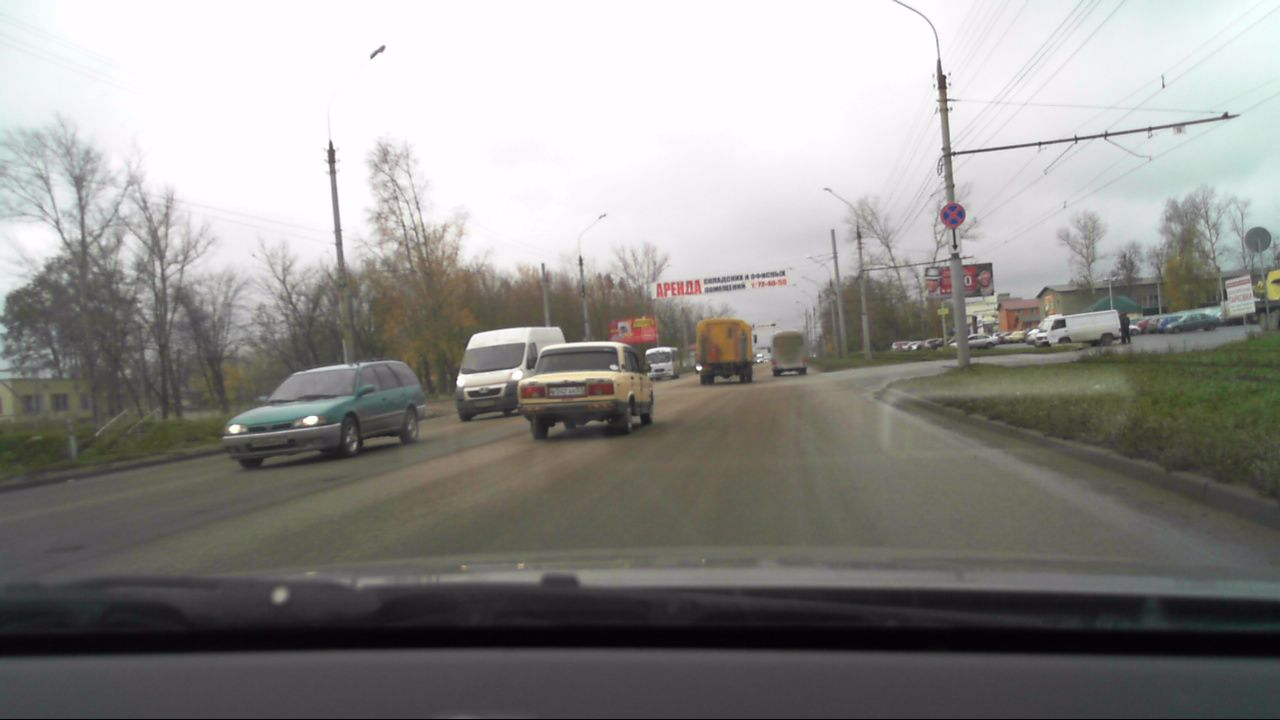No Parking: (938, 201, 967, 229)
